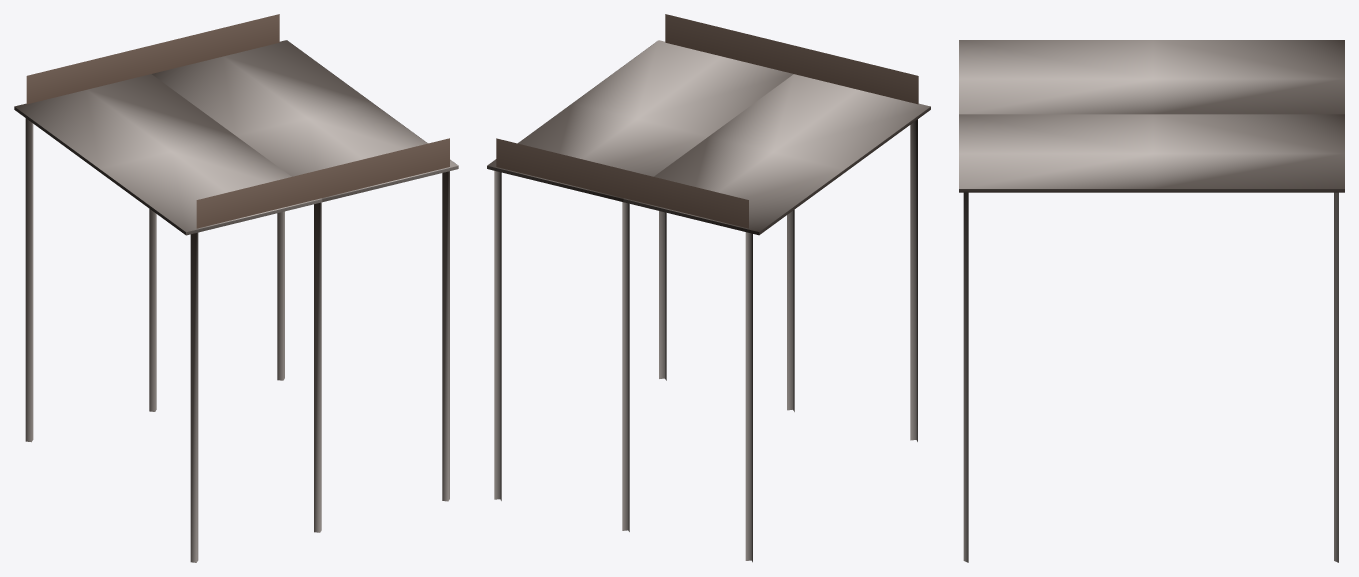
The model's file is WoodFlooring_V2.fbx.
3 renders of one model, left to right at view 1: azimuth 30°, elevation 25°; view 2: azimuth 150°, elevation 25°; view 3: azimuth 270°, elevation 25°, orthographic. The views are drawn at different scales.
Parts seen in each view (by area): view 1: WoodFlooring_V2; view 2: WoodFlooring_V2; view 3: WoodFlooring_V2.
Boxes of the visible parts, x1=… form: WoodFlooring_V2: x1=14, y1=14, x2=458, y2=562; WoodFlooring_V2: x1=487, y1=14, x2=930, y2=562; WoodFlooring_V2: x1=959, y1=40, x2=1344, y2=562.
Bounding box in the file's own units: 1096 × 1399 × 1197.
